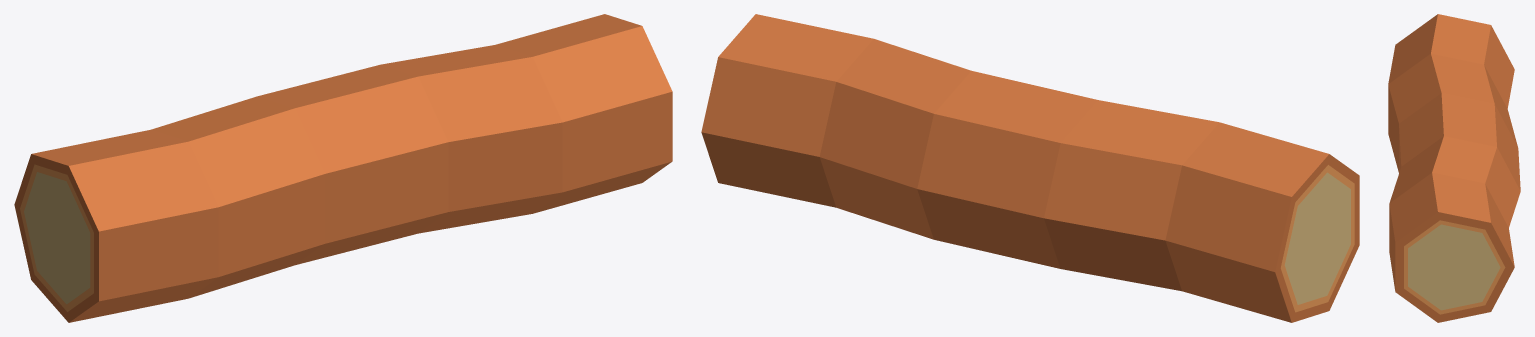
File: logs.fbx
3 views of the same model, side by side, from view 1: azimuth 30°, elevation 25°; view 2: azimuth 150°, elevation 25°; view 3: azimuth 270°, elevation 25° (orthographic). The views are drawn at different scales.
Parts seen in each view (by area): view 1: Cylinder; view 2: Cylinder; view 3: Cylinder.
Boxes of the visible parts, x1,y1,x2,y2 form: Cylinder: (14, 14, 672, 322); Cylinder: (701, 14, 1359, 322); Cylinder: (1388, 14, 1520, 322).
Size of the model in its own units: 525 by 137 by 148.
